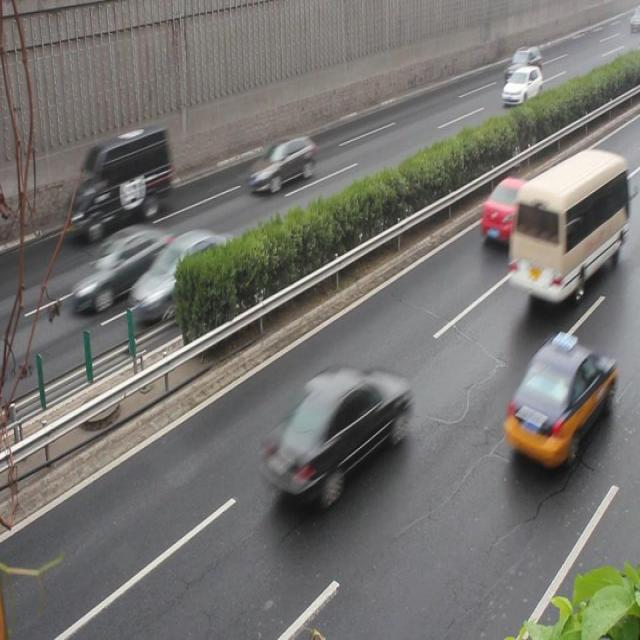car: (261, 368, 410, 504), (498, 332, 615, 469), (132, 225, 240, 320), (70, 225, 179, 312), (481, 174, 558, 247), (247, 134, 317, 193), (498, 64, 542, 109)
truck: (508, 150, 627, 304), (67, 124, 172, 234)
